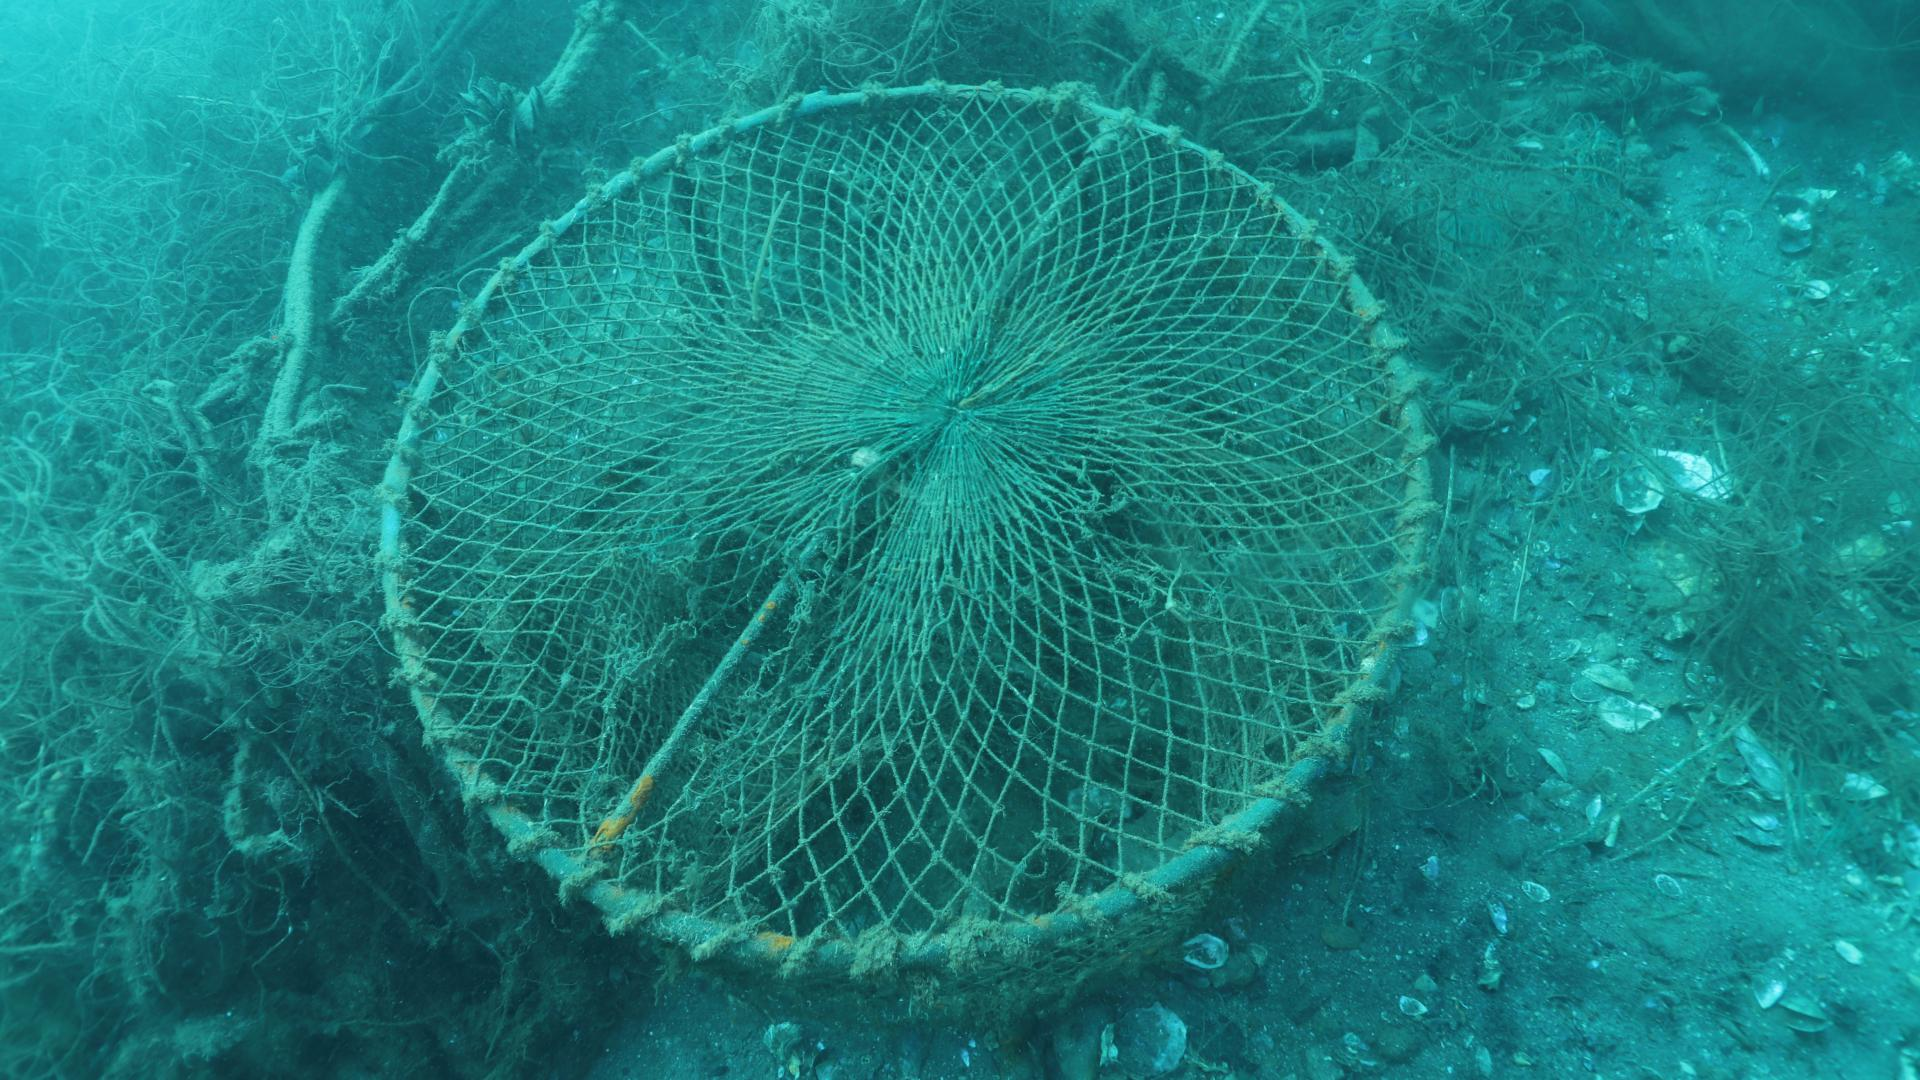circular fish trap: (378, 82, 1435, 1039)
